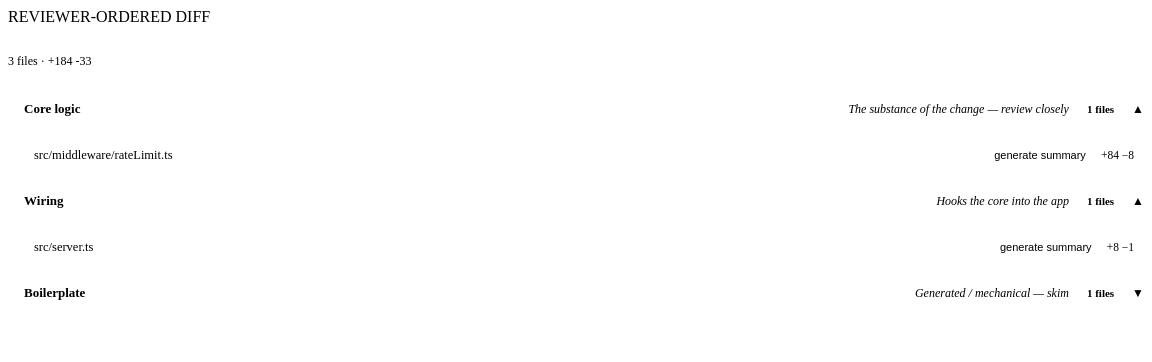
it: SmartDiffViewer › boilerplate is collapsed by default; clicking its header reveals it
Expected: the text titled "src/middleware/rateLimit.ts" is shown, [34,148,172,162]
Expected: the text titled "src/server.ts" is shown, [34,240,93,254]
Note: Click Boilerplate header to expand
Click the button "Boilerplate" at (55, 292), box [24,285,1144,300]
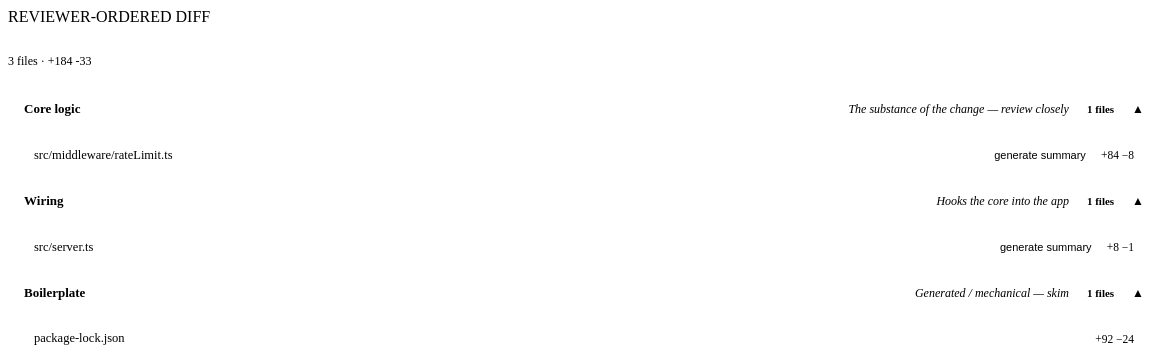
Expected: the text titled "package-lock.json" is shown, [34,331,125,345]
